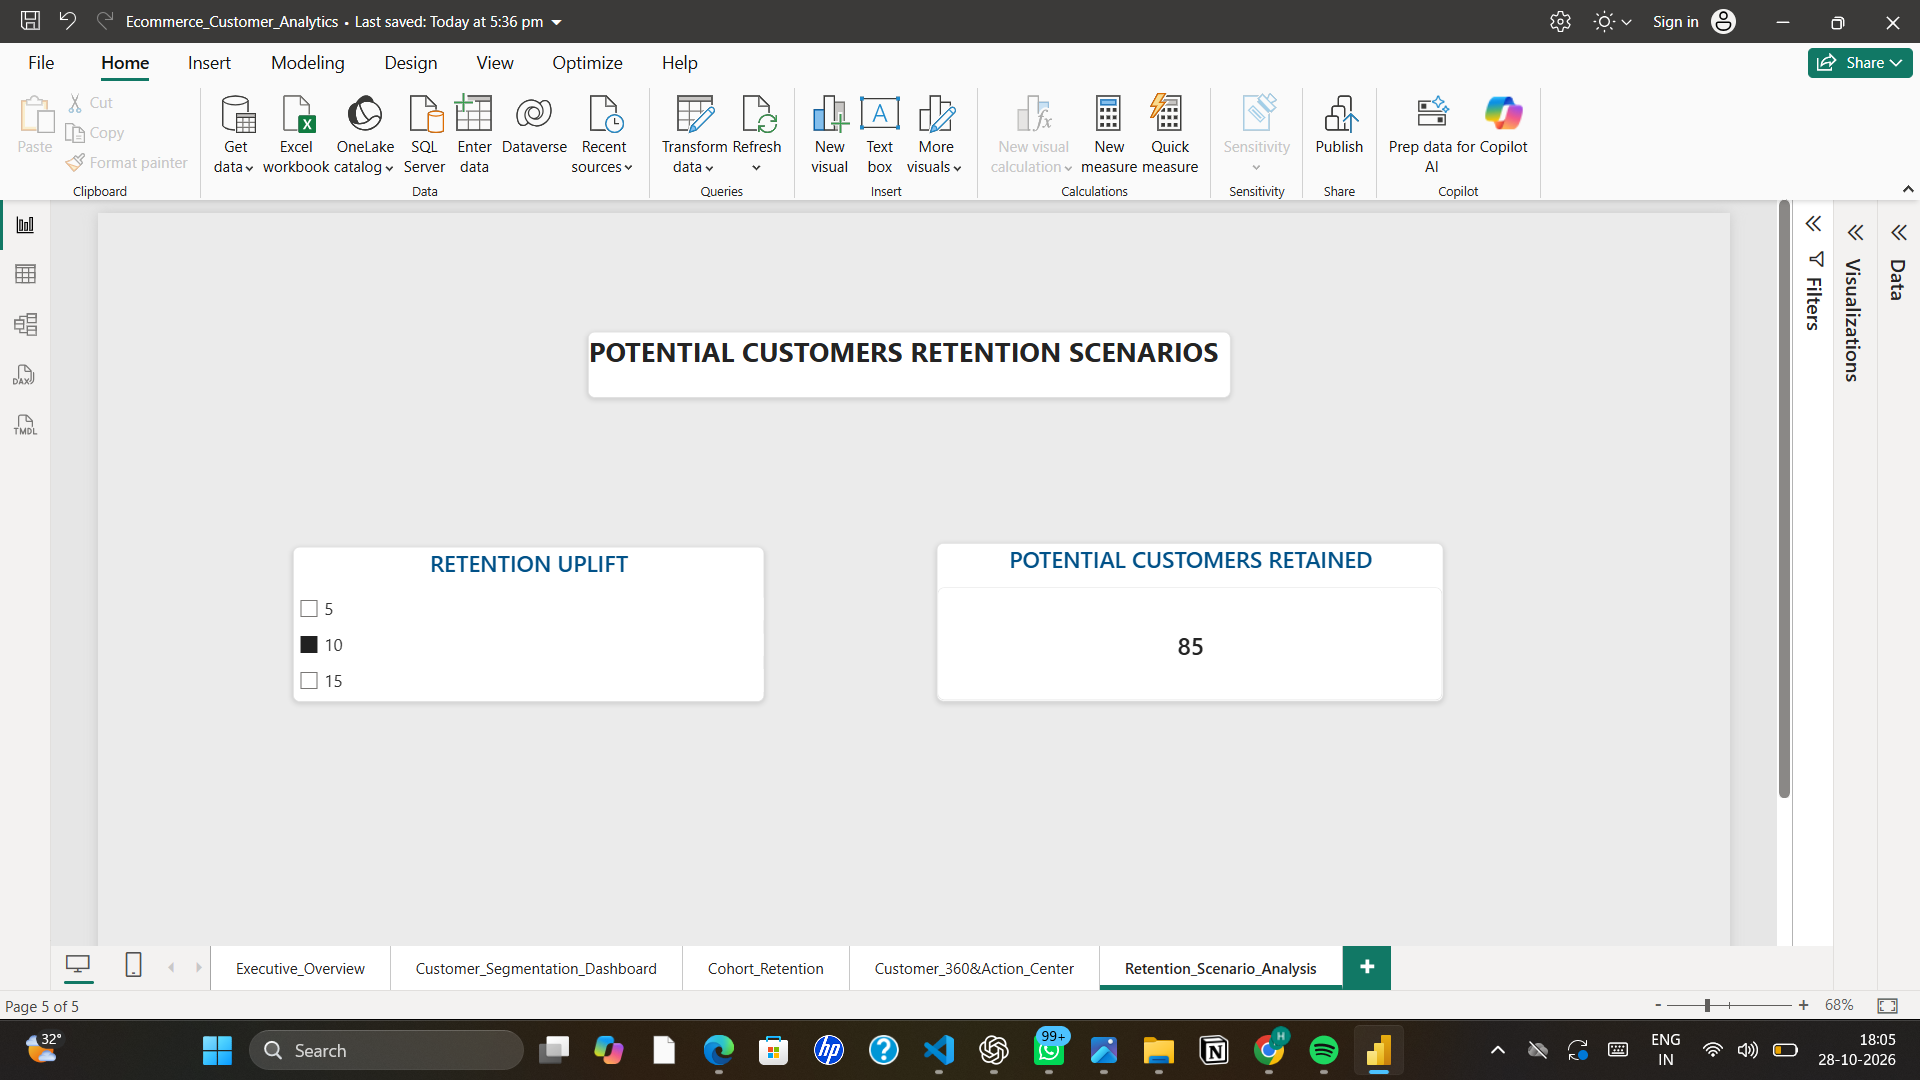

What the dashboard file says about the page in this screenshot:
{"tool":"powerbi","page":{"name":"Retention_Scenario_Analysis","canvas":[1920,1080],"ordinal":4},"visuals":[{"type":"slicer","title":"RETENTION UPLIFT","fields":{"Values":["RetentionScenarios.Retention_Uplift"]},"box":[230,392,554,182],"z":0},{"type":"cardVisual","title":"POTENTIAL CUSTOMERS RETAINED","fields":{"Data":["RetentionScenarios.Potential Customers Retained"]},"box":[986,388,596,152],"z":1},{"type":"textbox","box":[576,140,756,78],"z":2}]}

Visuals, with their boxes on the page's 1920x1080 design canvas (x1, y1, x2, y2). These are canvas units, not pixel positions in the 1920x1080 screenshot, which may show the page scaled, cropped or inside an application window:
"RETENTION UPLIFT" slicer: [left=230, top=392, right=784, bottom=574]
"POTENTIAL CUSTOMERS RETAINED" cardVisual: [left=986, top=388, right=1582, bottom=540]
textbox: [left=576, top=140, right=1332, bottom=218]
